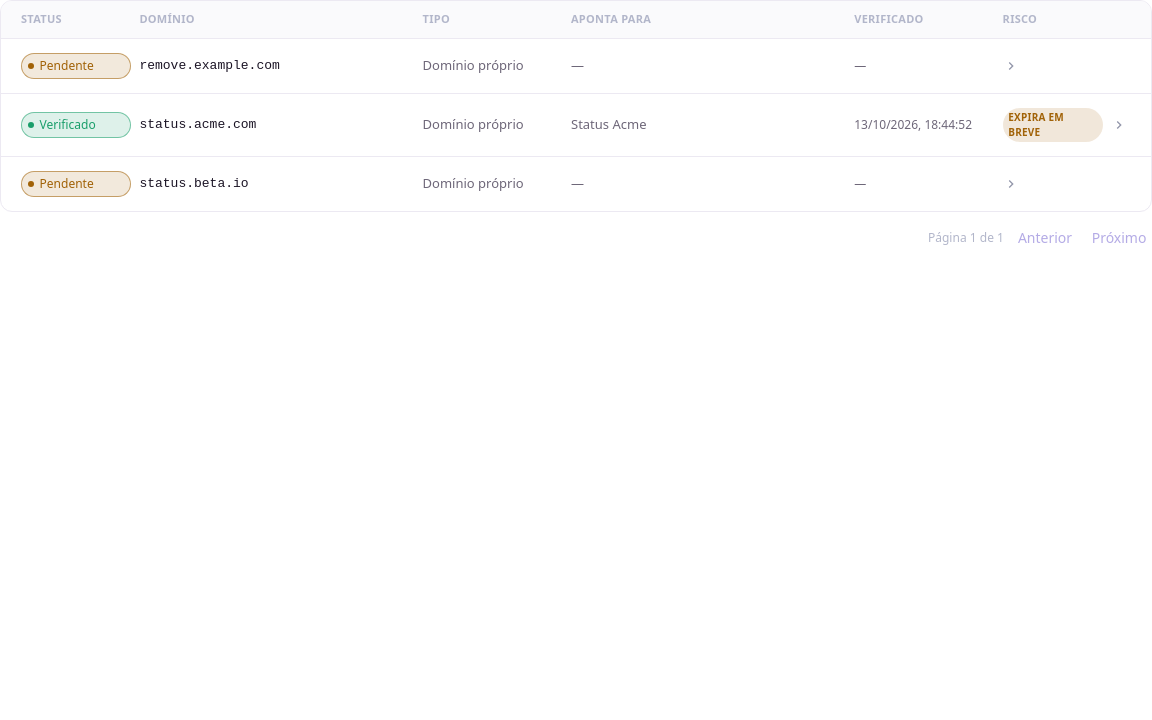
Test: DomainDetailDrawer › successful 'Remover domínio' closes the drawer and removes the row from the table (DSP-07)
The width and height of the screenshot is (1152, 720).
Click the text "remove.example.com". click: (210, 65)
box: [139, 58, 280, 73]
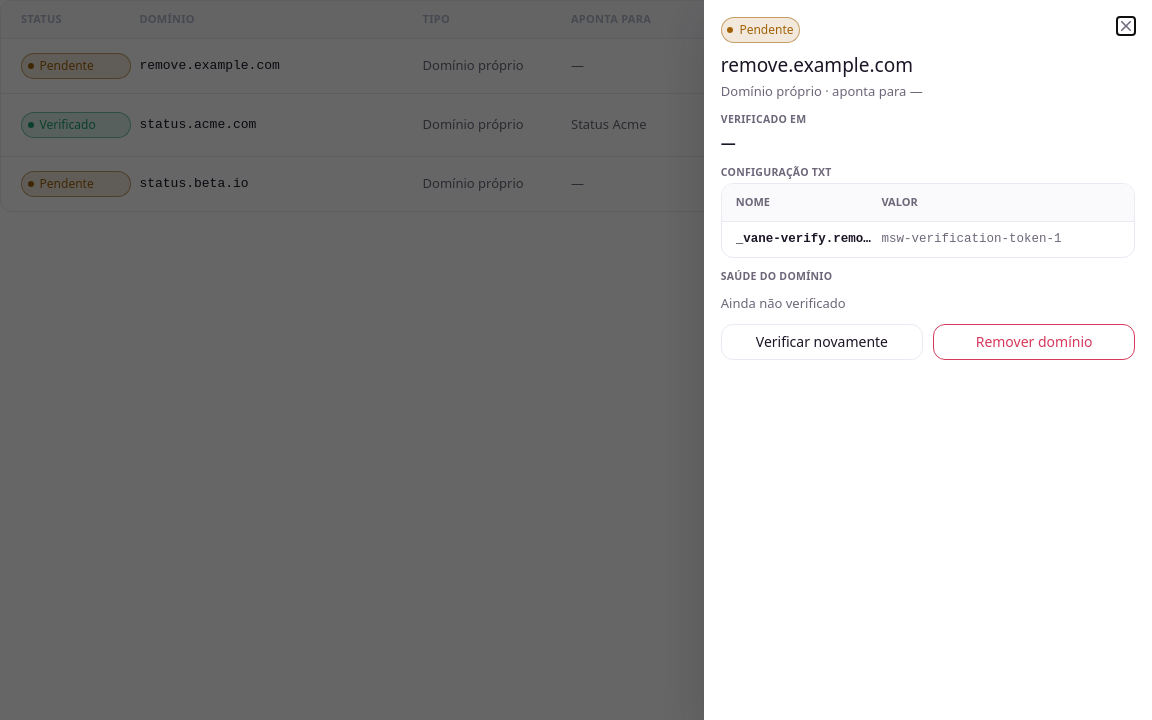
Click the button "Remover domínio". click: (1034, 342)
box: [933, 324, 1135, 360]
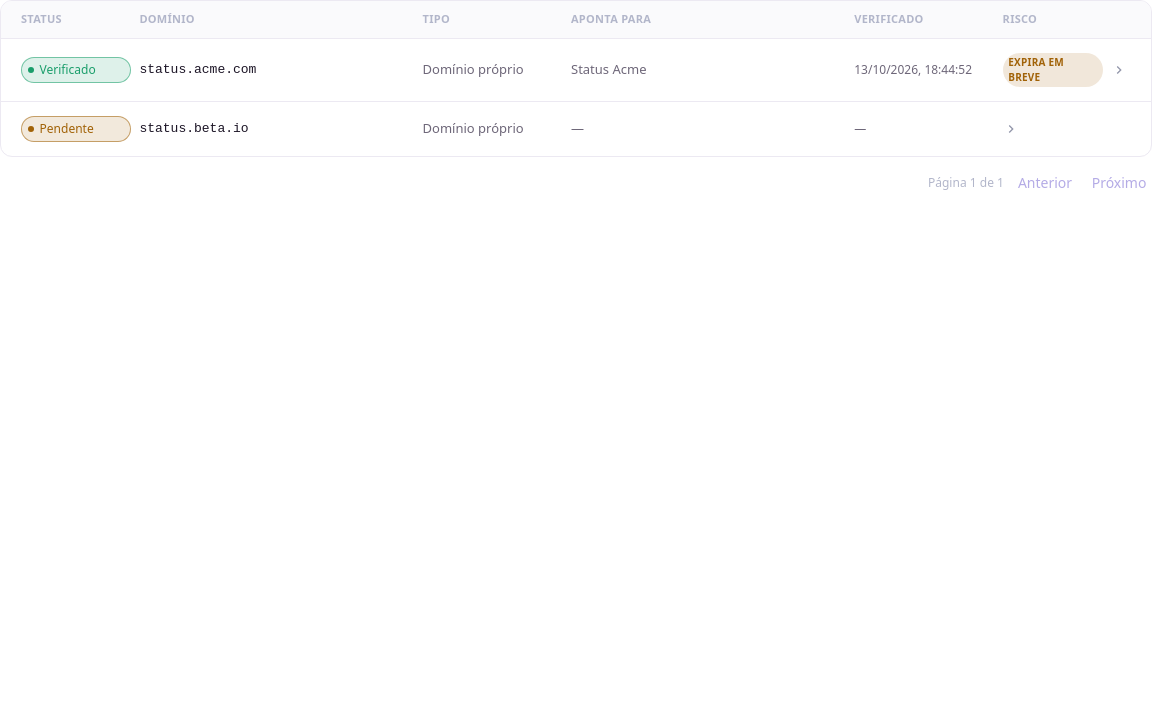
Expected: the text "remove.example.com" is gone
Expected: the button "Remover domínio" is gone
